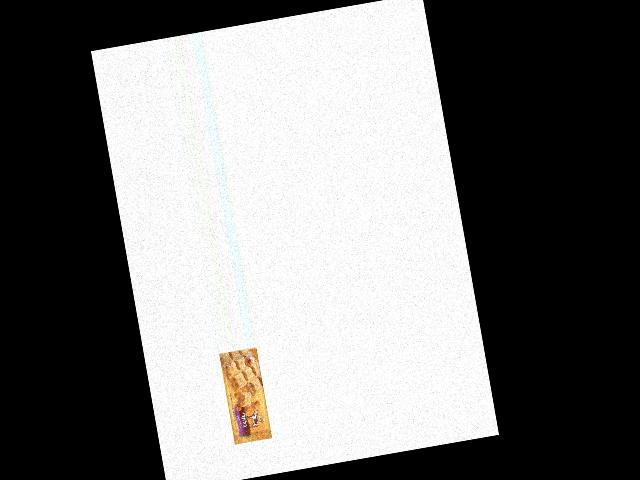chocolate: (216, 347, 272, 448)
